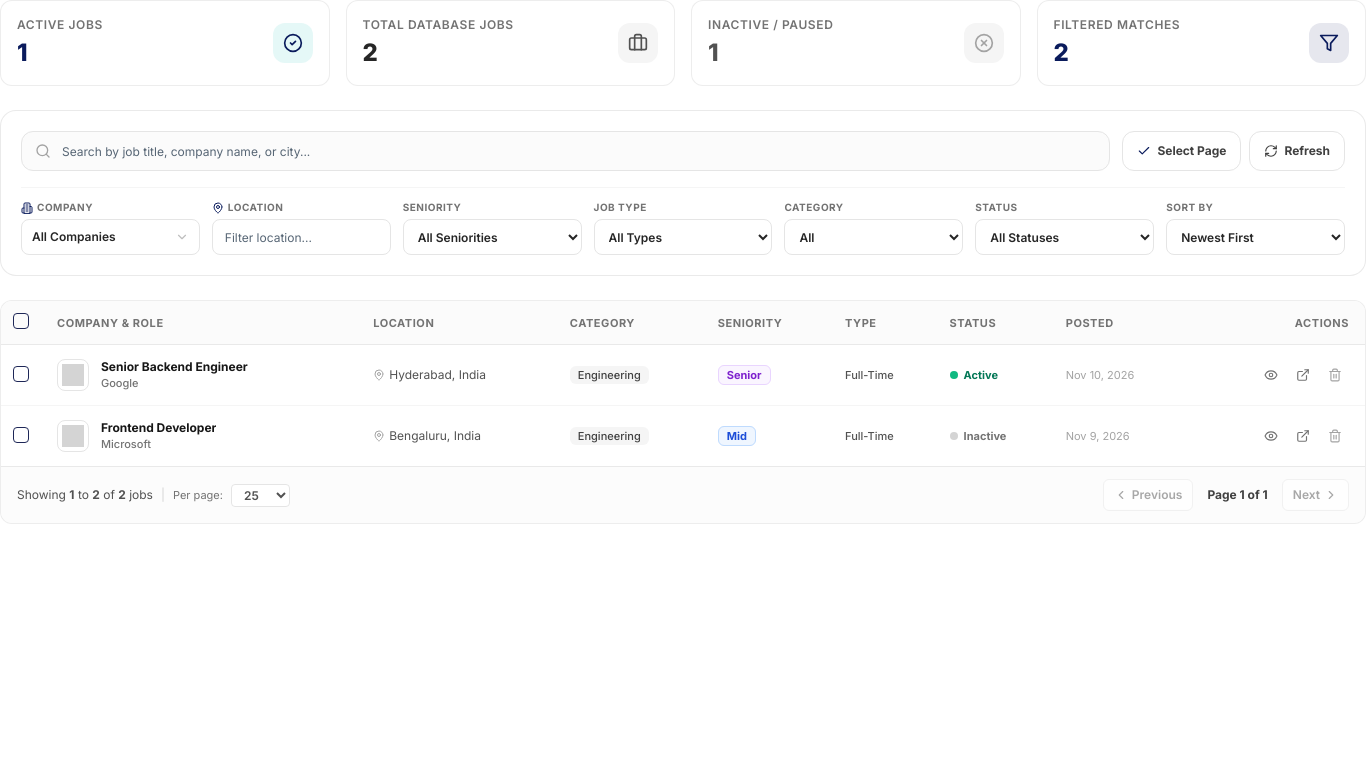
Test: Admin JobsTab Component › handles select all on current page via header checkbox and clear selection
The image size is (1366, 768).
Expected: the button "Senior Backend Engineer" is shown, [101,359,248,375]
# Header checkbox to select all
Click the checkbox named "Select all jobs on current page".
click(21, 321)  # box [13,313,29,329]
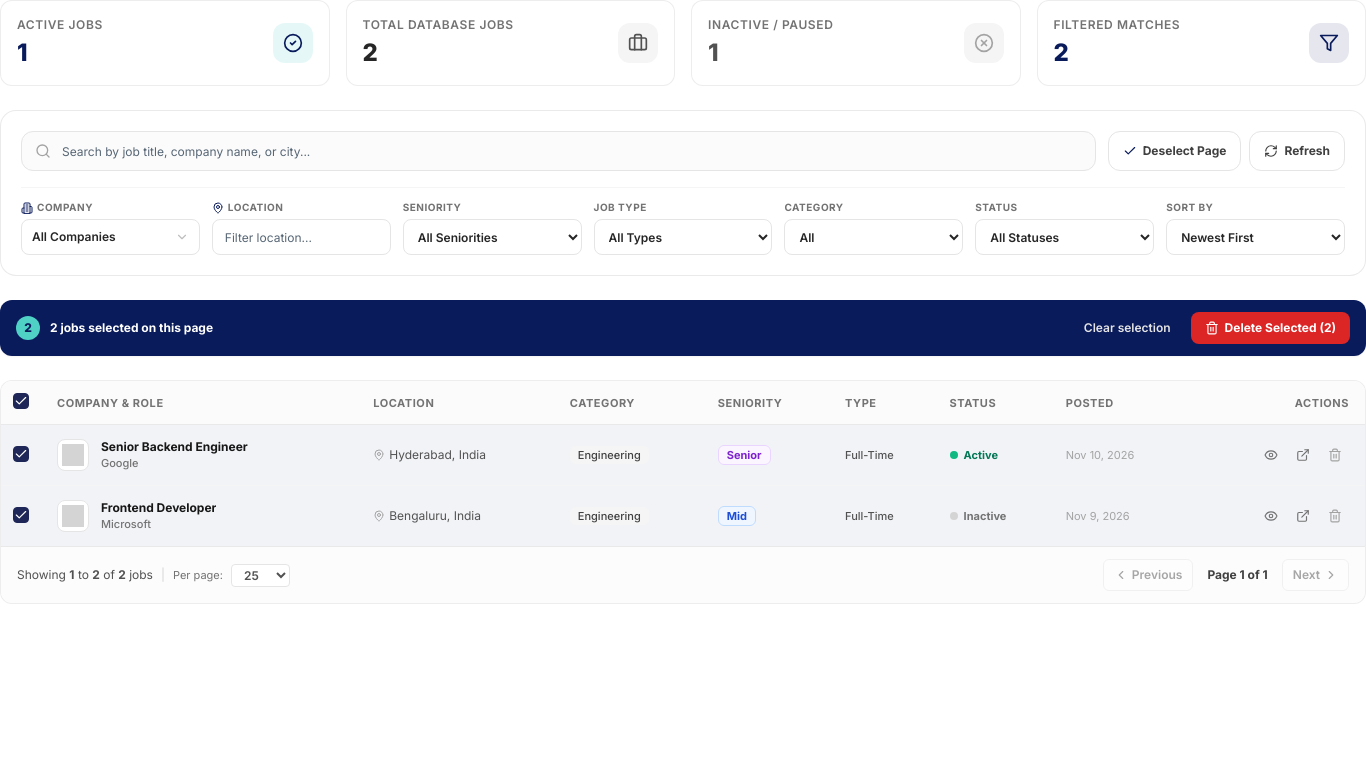
Expected: the text "2 jobs selected on this page" is shown, [50,320,213,336]
Expected: the button "Delete Selected (2)" is shown, [1191,312,1350,344]
# Clear selection
Click the button "Clear selection".
click(1127, 328)  # box [1072,312,1183,344]
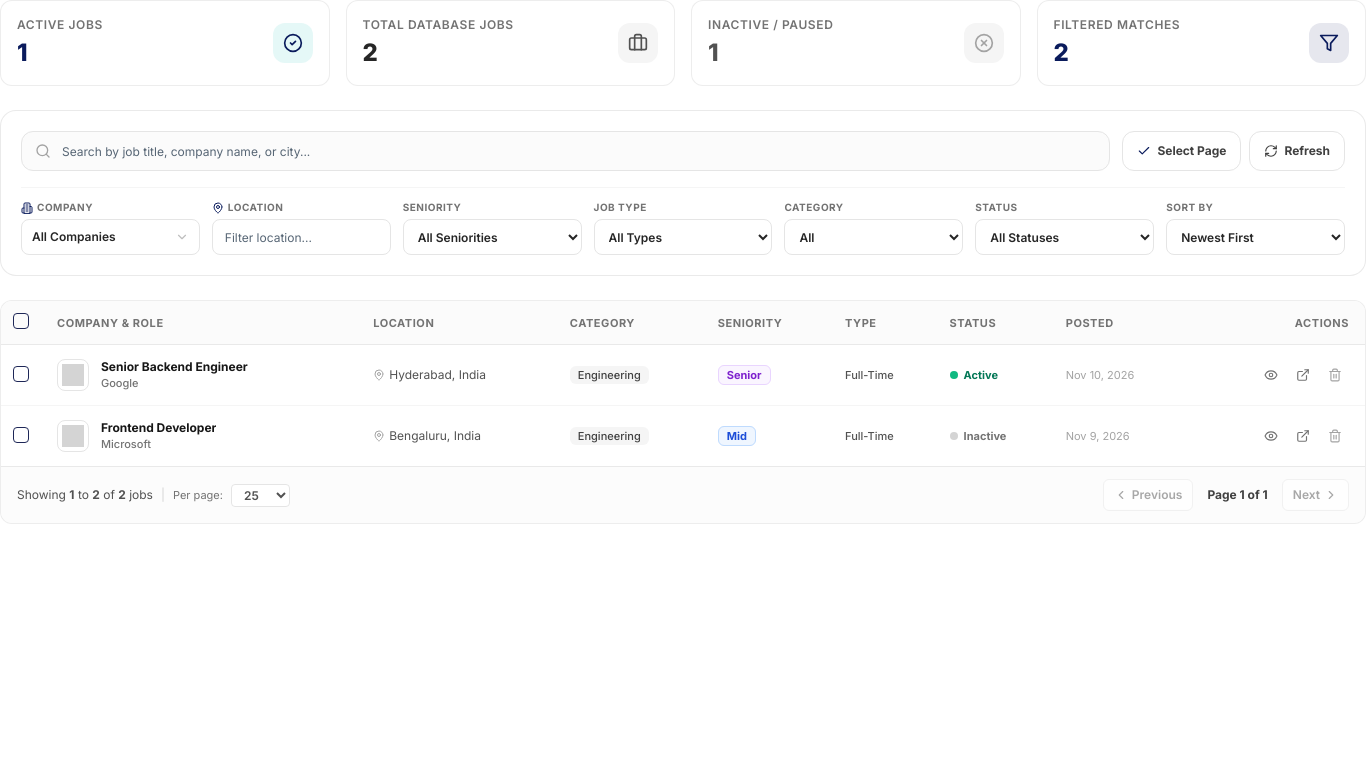
Expected: the text "2 jobs selected on this page" is gone
